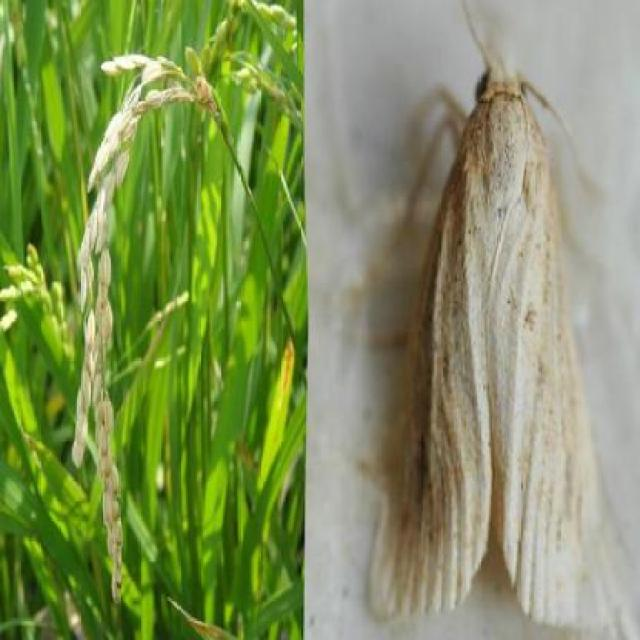stem-borer: (368, 34, 608, 629)
